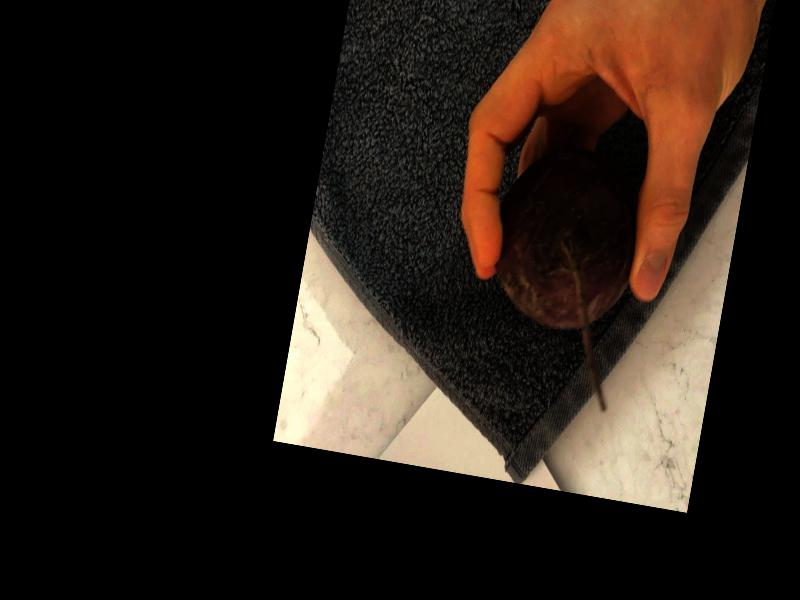Beet: (469, 138, 650, 413)
